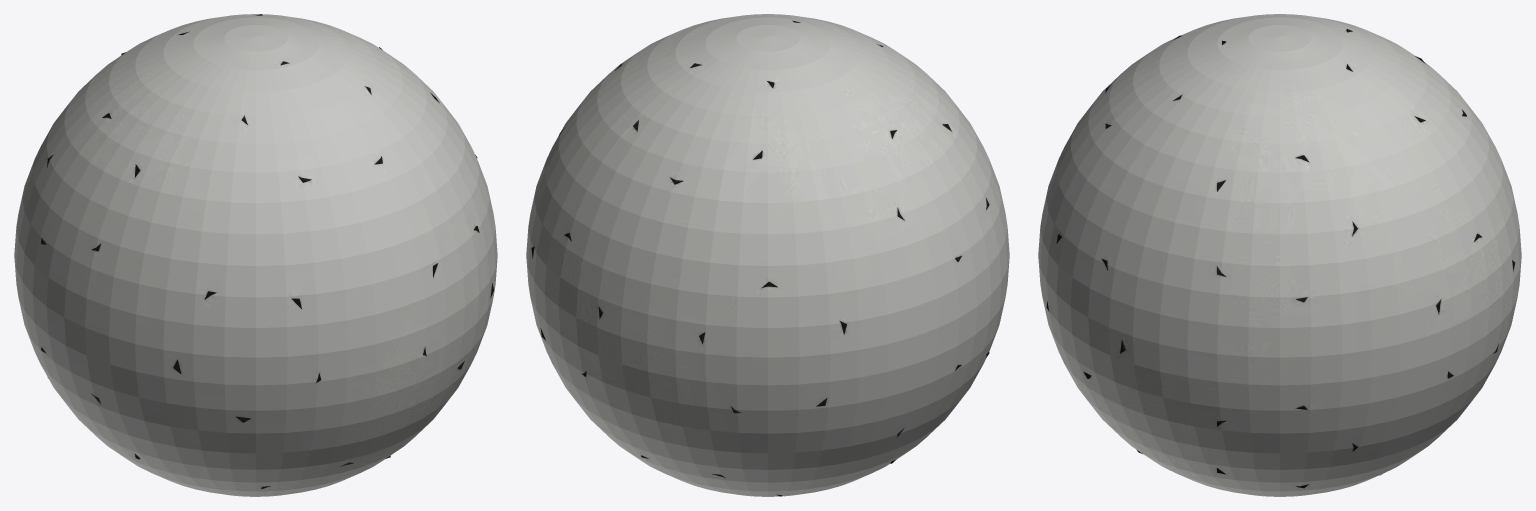
Rendered from soccer.glb.
The picture shows the model from 3 angles, left to right: view 1: azimuth 30°, elevation 25°; view 2: azimuth 150°, elevation 25°; view 3: azimuth 270°, elevation 25°; orthographic projection.
Parts seen in each view (by area): view 1: ball_soccer, soccer_black; view 2: ball_soccer, soccer_black; view 3: ball_soccer, soccer_black.
Boxes of the visible parts, x1,y1,x2,y2 form: ball_soccer: (14,14,497,496); soccer_black: (41,14,493,496); ball_soccer: (526,14,1009,496); soccer_black: (531,20,989,496); ball_soccer: (1038,14,1521,496); soccer_black: (1046,29,1515,488).
Size of the model in its own units: 0.22 by 0.22 by 0.22.
Materials: 2 (1 with a texture image).
